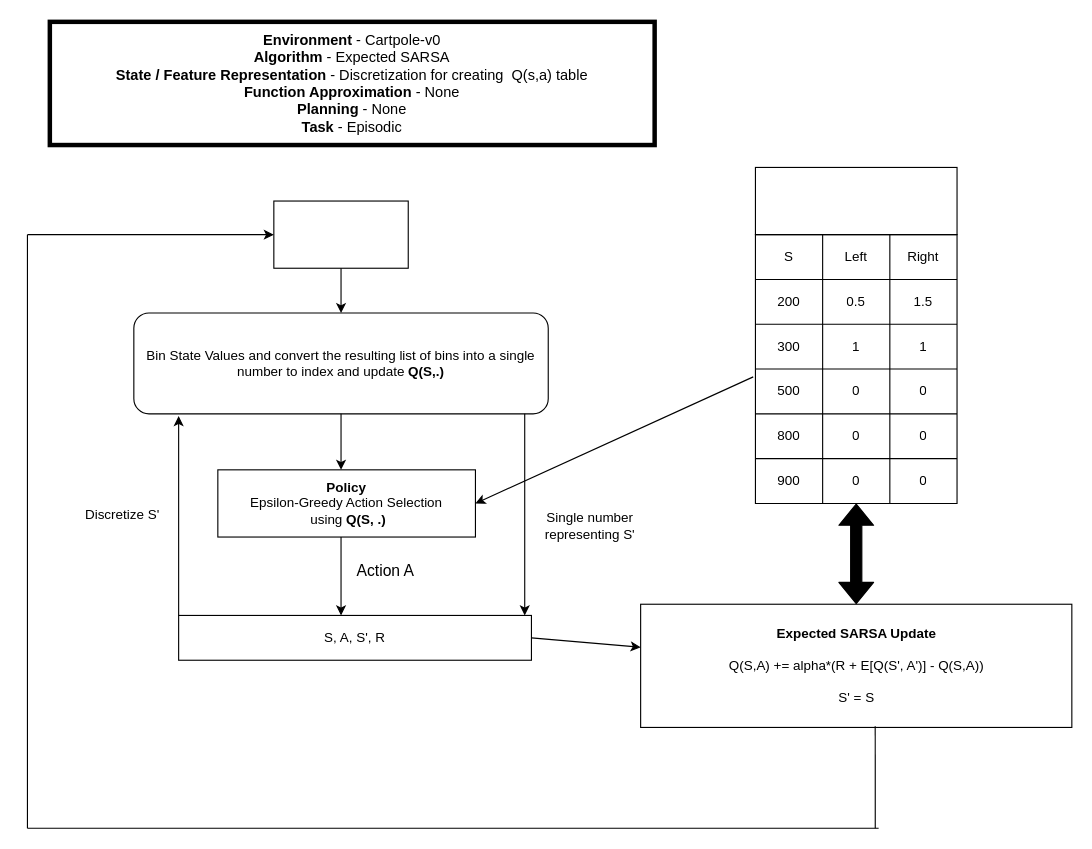
This 1092x849 diagram has some shape labels left out. Each missing label, with the centre of its shape:
"Q(s,a)" belongs at point (855, 200).
"State S (pos, cv, ang, tv)" belongs at point (340, 234).
